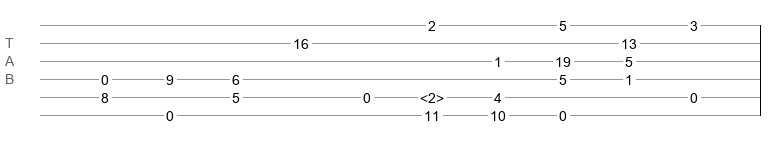0: (101, 72, 109, 82), (166, 108, 174, 118), (363, 90, 371, 100), (559, 108, 567, 118), (690, 90, 698, 100)
1: (494, 54, 502, 64), (625, 72, 633, 82)
10: (490, 108, 506, 118)
11: (424, 108, 440, 118)
13: (621, 36, 637, 46)
16: (293, 36, 309, 46)
19: (555, 54, 571, 64)
2: (428, 18, 436, 28)
3: (690, 18, 698, 28)
4: (494, 90, 502, 100)
5: (232, 90, 240, 100), (559, 18, 567, 28), (559, 72, 567, 82), (625, 54, 633, 64)
6: (232, 72, 240, 82)
8: (101, 90, 109, 100)
9: (166, 72, 174, 82)
harmonic: (420, 90, 444, 100)
